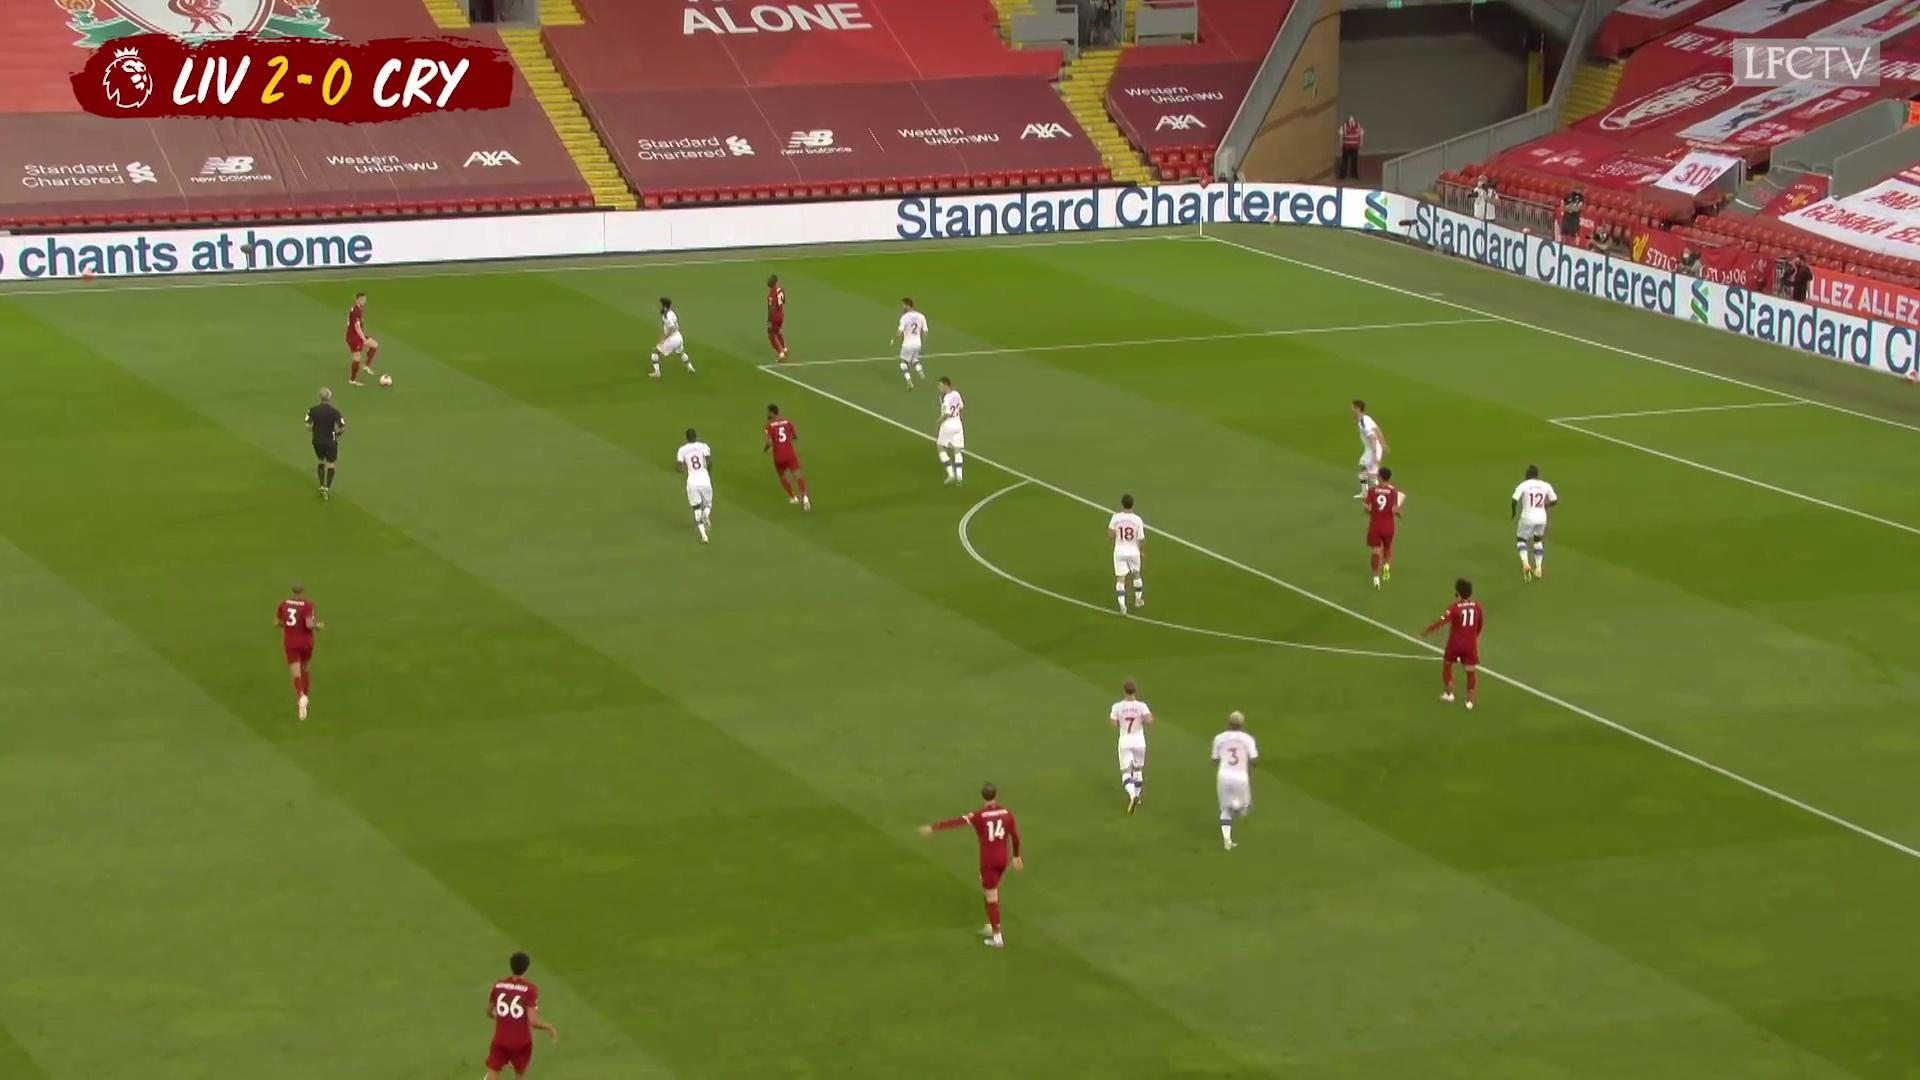ball: (375, 368, 396, 390), (1901, 368, 1920, 387), (80, 264, 96, 284), (1266, 212, 1281, 227)
player: (917, 777, 1028, 952), (480, 948, 562, 1080), (1416, 574, 1490, 711), (1205, 708, 1265, 851), (270, 578, 327, 724), (1346, 396, 1411, 514), (1106, 674, 1157, 821), (1507, 461, 1561, 586), (760, 399, 815, 516), (673, 424, 722, 549), (1104, 490, 1151, 619), (928, 373, 972, 491), (644, 295, 701, 383), (1363, 466, 1402, 590), (885, 294, 934, 389), (342, 290, 377, 389), (762, 272, 792, 365)
referee: (301, 384, 348, 504)
